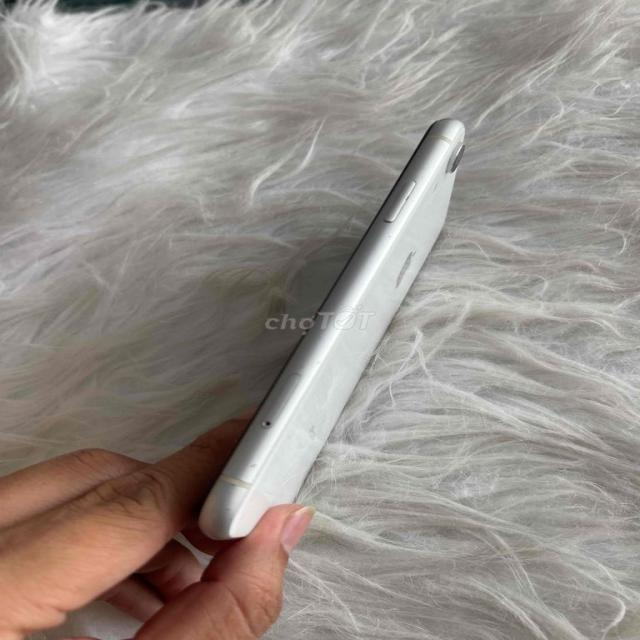gen_x_xs: (200, 120, 465, 541)
